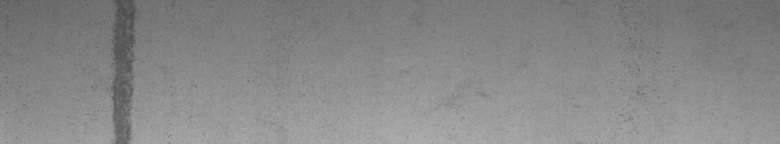hd: (106, 4, 139, 136)
